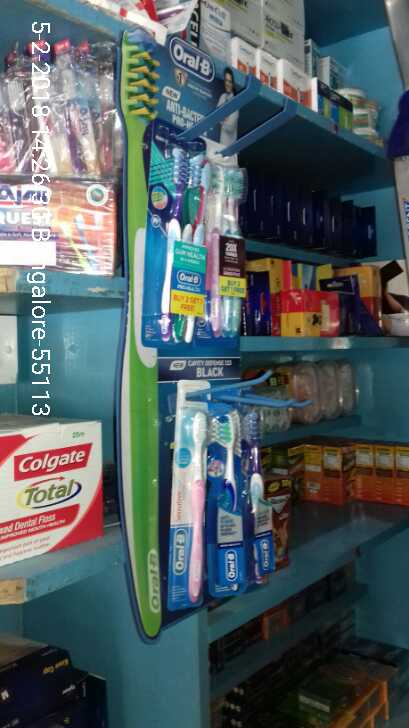oralb: (159, 146, 214, 345), (165, 378, 212, 598), (214, 159, 264, 341), (212, 413, 244, 588)
